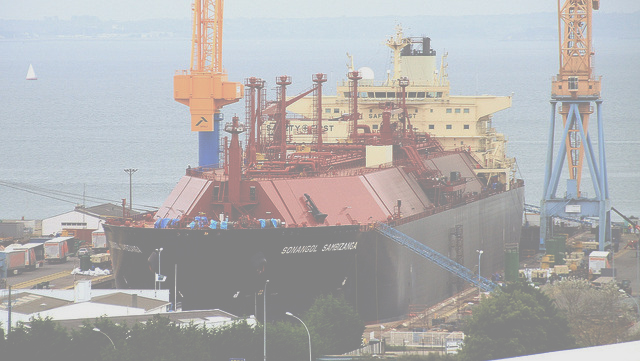LNG_ship: (108, 26, 528, 283)
